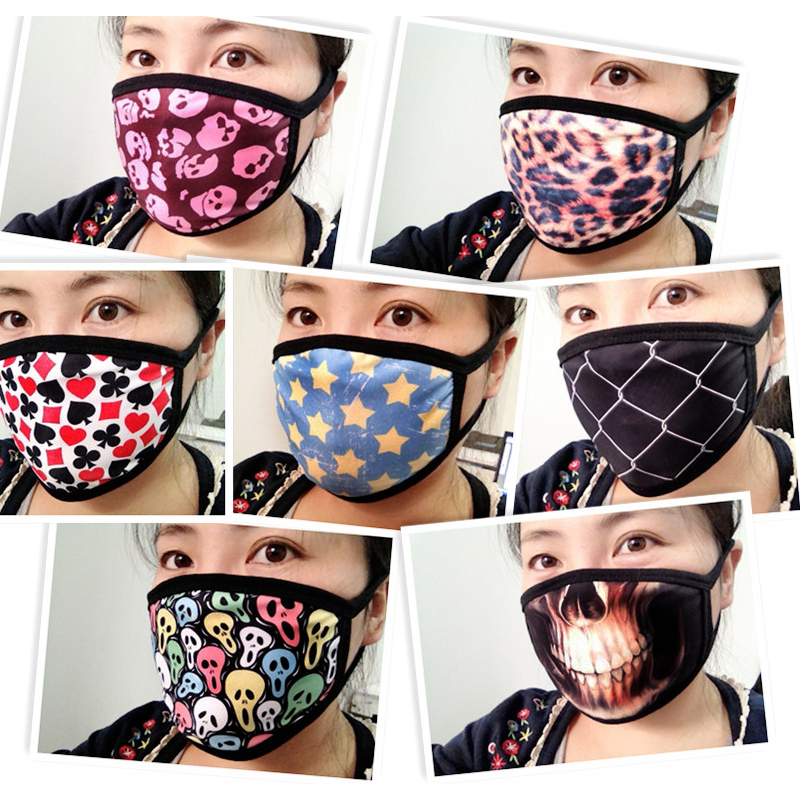face_mask: (147, 483, 373, 749), (555, 230, 772, 495), (269, 234, 491, 485), (498, 11, 713, 248), (1, 228, 195, 479), (110, 1, 315, 224), (522, 487, 718, 720)
